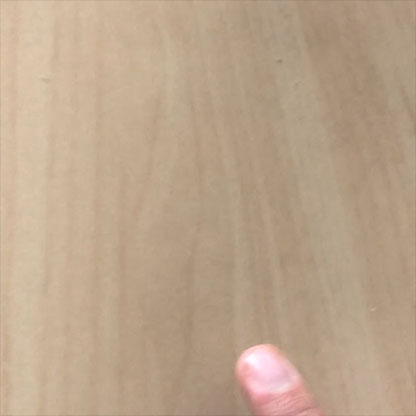fingertip: (224, 334, 314, 408)
